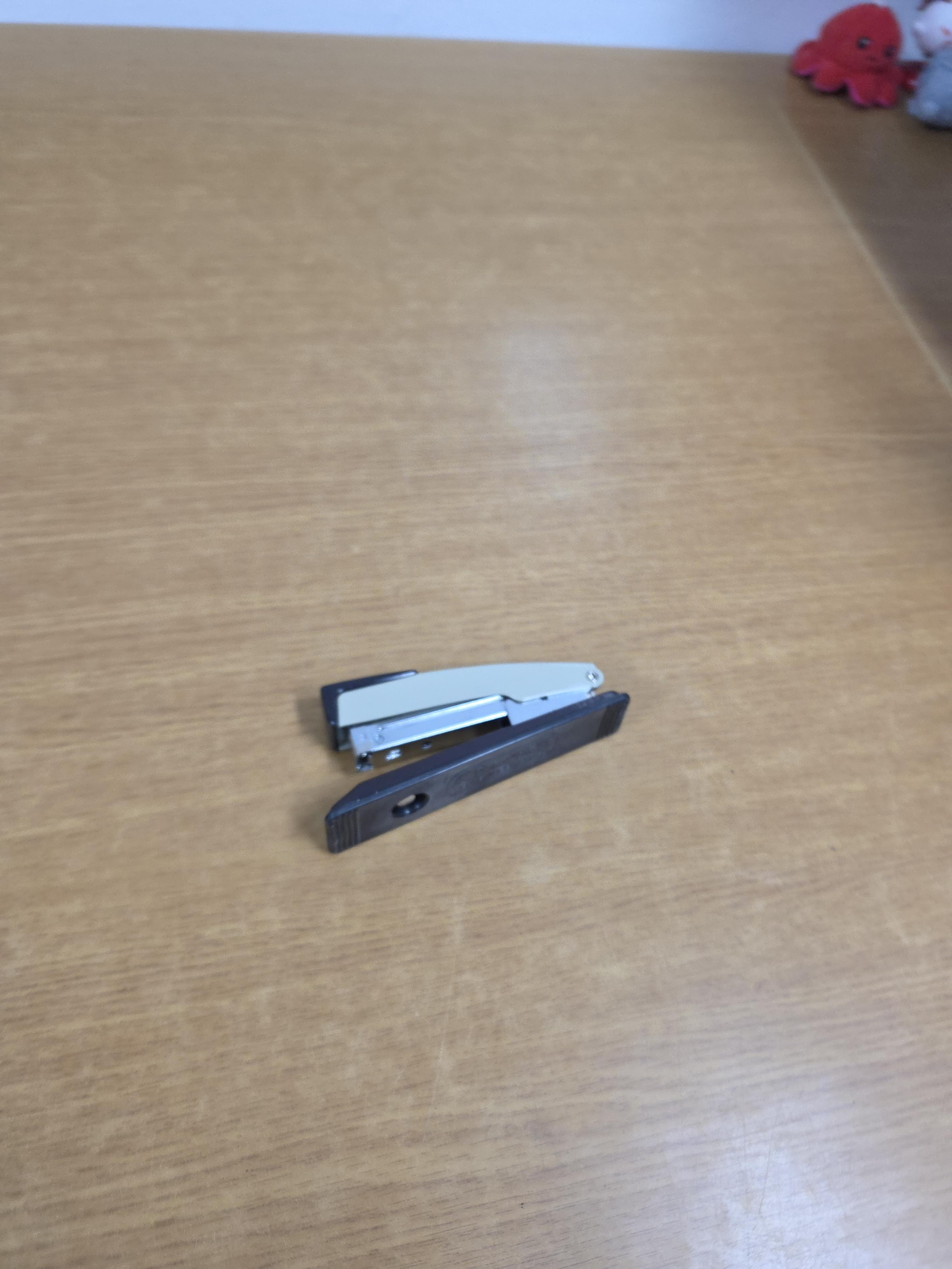stapler: (321, 660, 631, 856)
